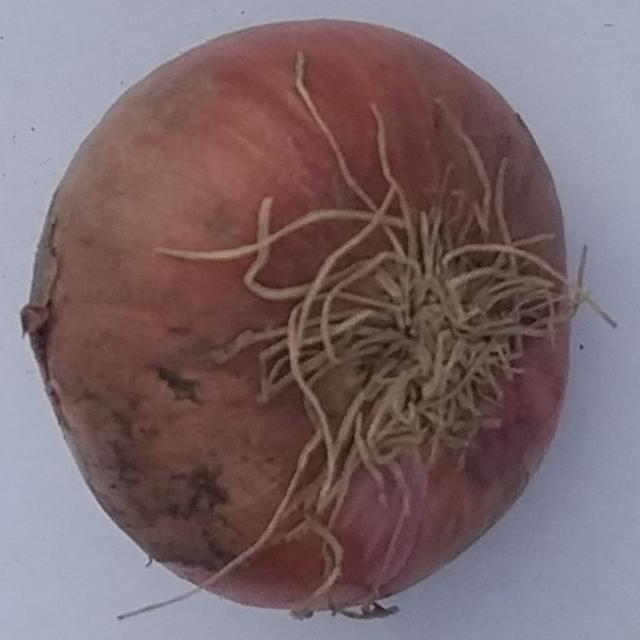onion: (20, 18, 572, 620)
